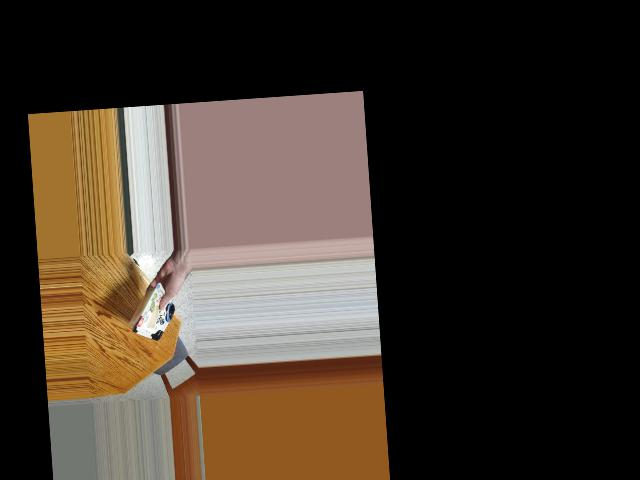cheese: (118, 286, 178, 346)
